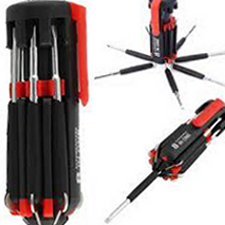Screwdriver: (100, 90, 225, 225), (97, 23, 225, 109)
